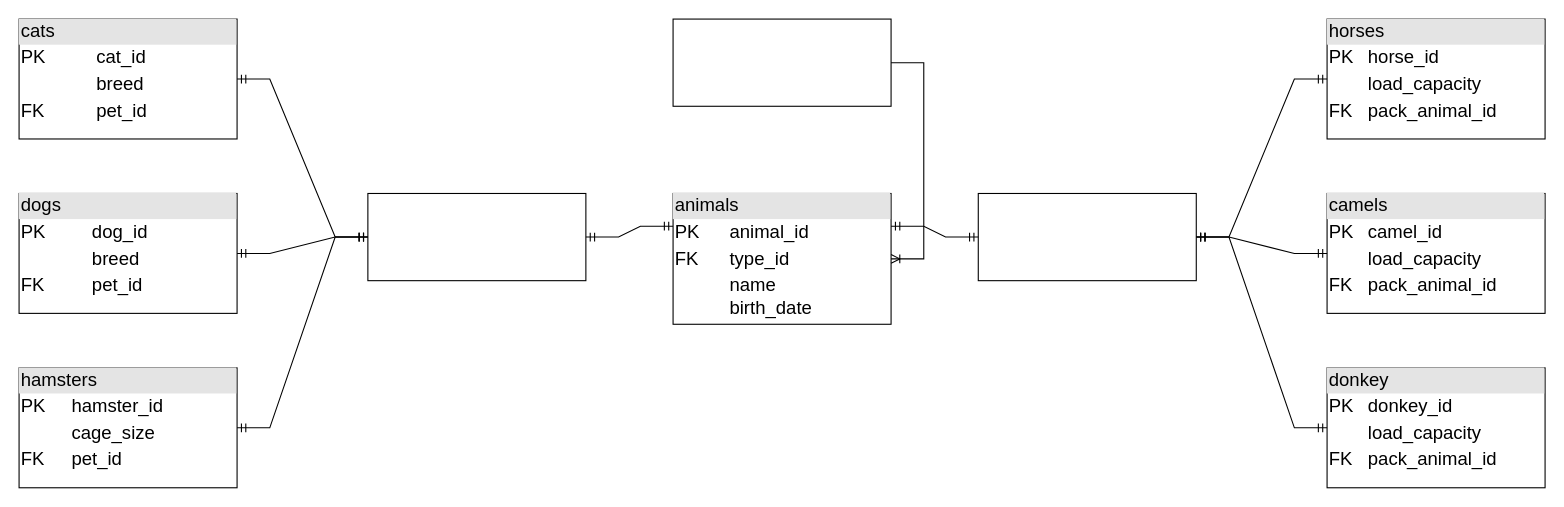
Image size: 1564x507. Some labels were removed from this diagram. The shapes that lost their labels are listed below. From the top down, each one's centre as x and y in pixels, then its label:
At pixel 781 62: "animal_types PK type_id type_name".
At pixel 476 236: "pets PK, FK pet_id commands".
At pixel 1086 236: "pack_animals PK, FK pack_animal_id load_capacity".
